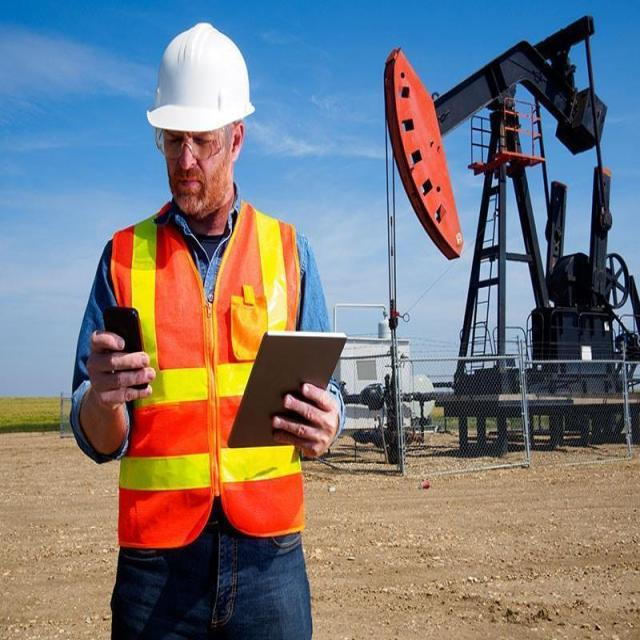Vest: (95, 199, 319, 536)
